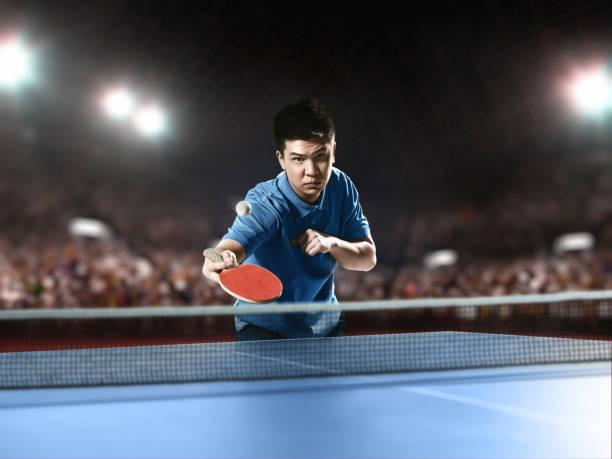ball_pingpong: (234, 200, 251, 217)
